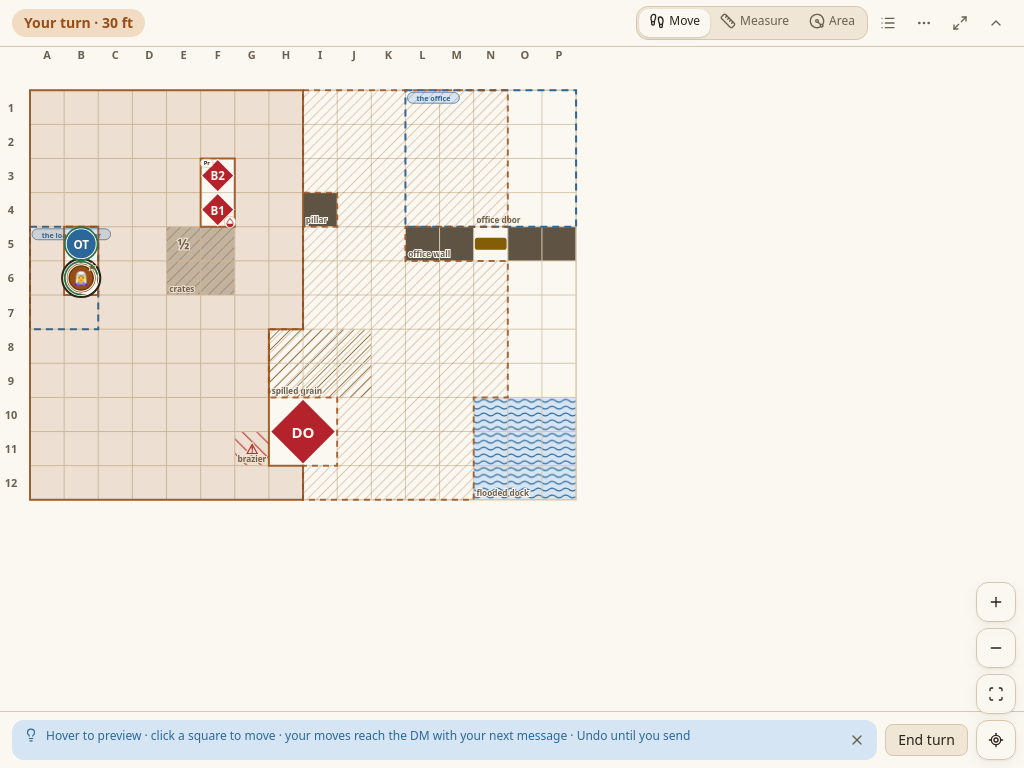
Scenario: area templates (D50, D64) › nudges a centre with the buttons and the arrow keys
The image size is (1024, 768).
Click the radio button labelled "Area": [832, 23] box [799,9,865,37]
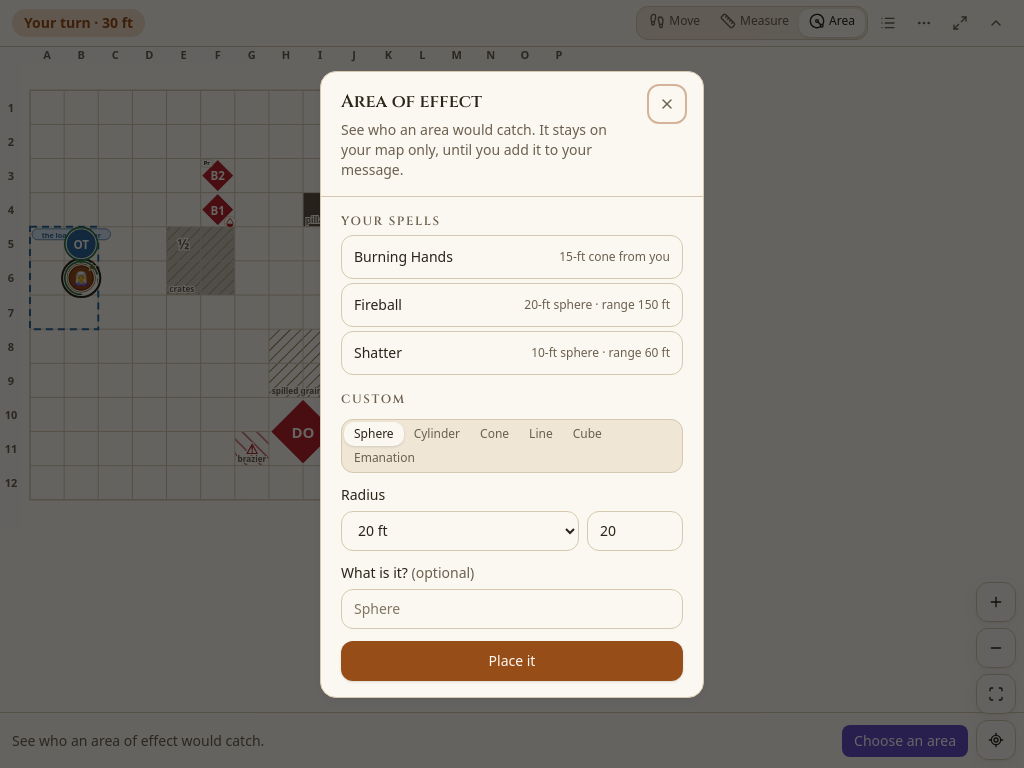
Click the button "Fireball 20-ft sphere · range 150 ft": [378, 304] box [341,282,683,326]
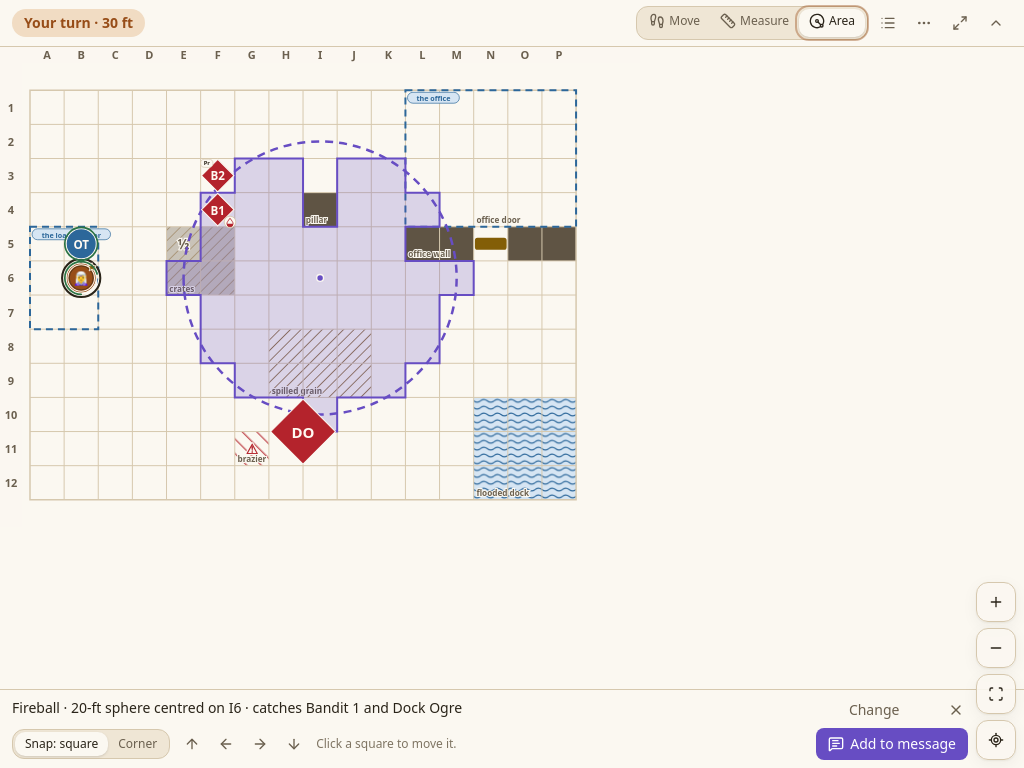
Press Enter in the element named "Battle map: Dockside warehouse, 16 by 12 squares"
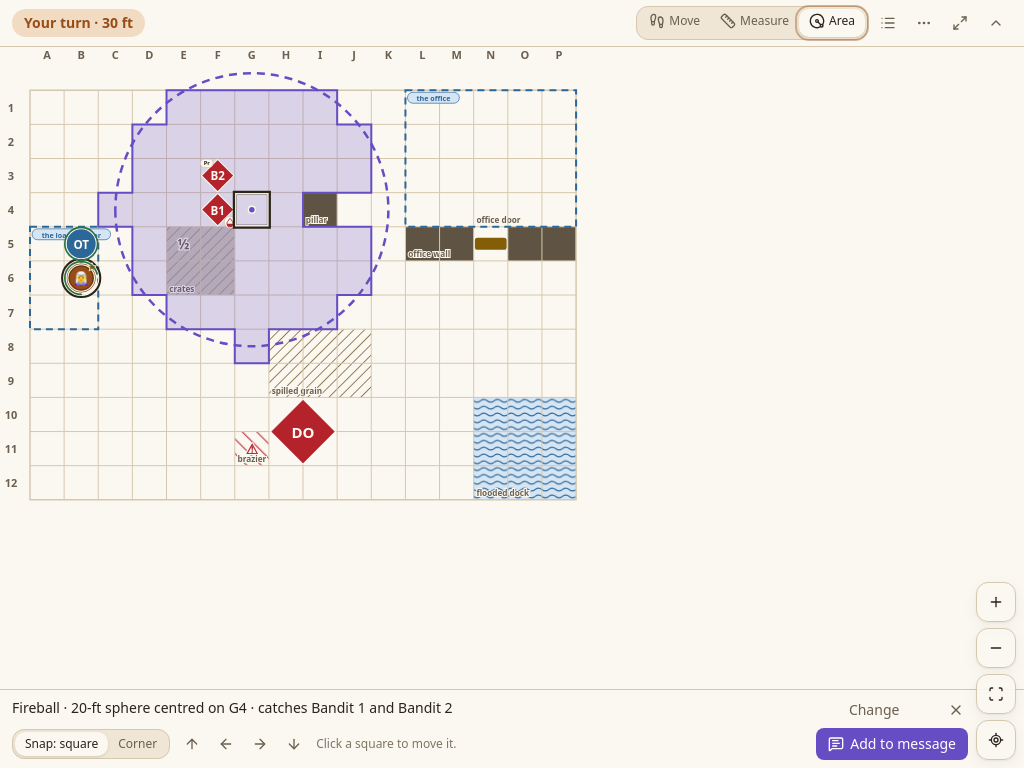
Click the button named "Nudge east": [260, 744] box [244,728,276,760]
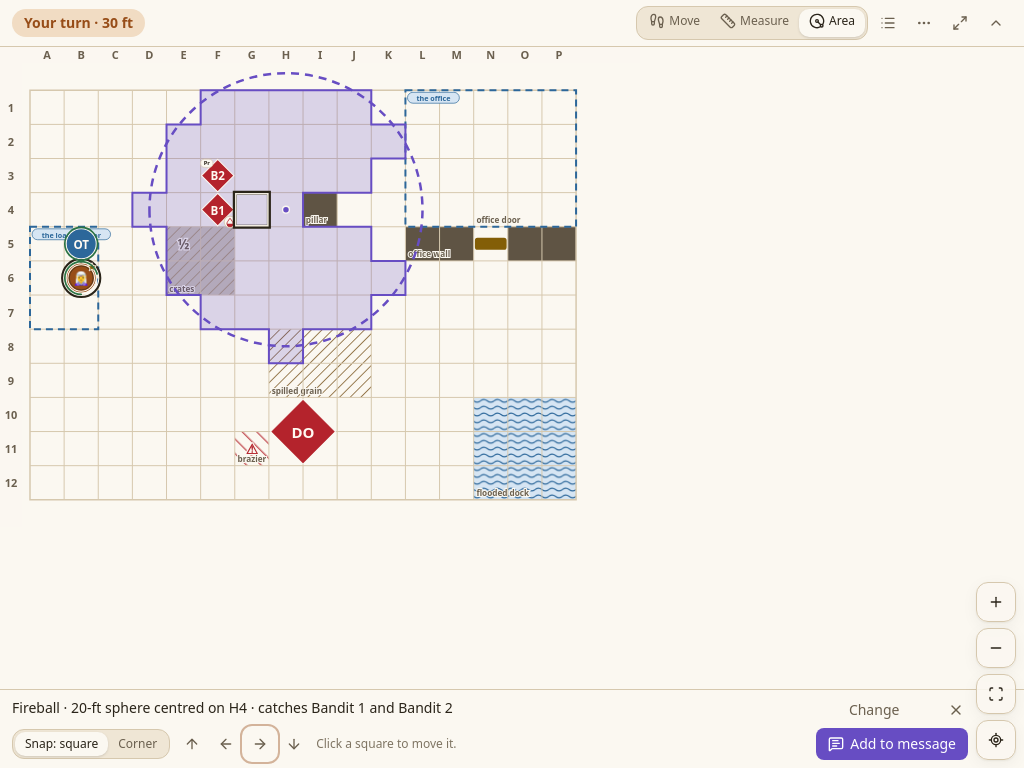
Now the text with test id "area-readout" shows "centred on H4", box [12,698,453,717]
Press ArrowDown in the element named "Battle map: Dockside warehouse, 16 by 12 squares"
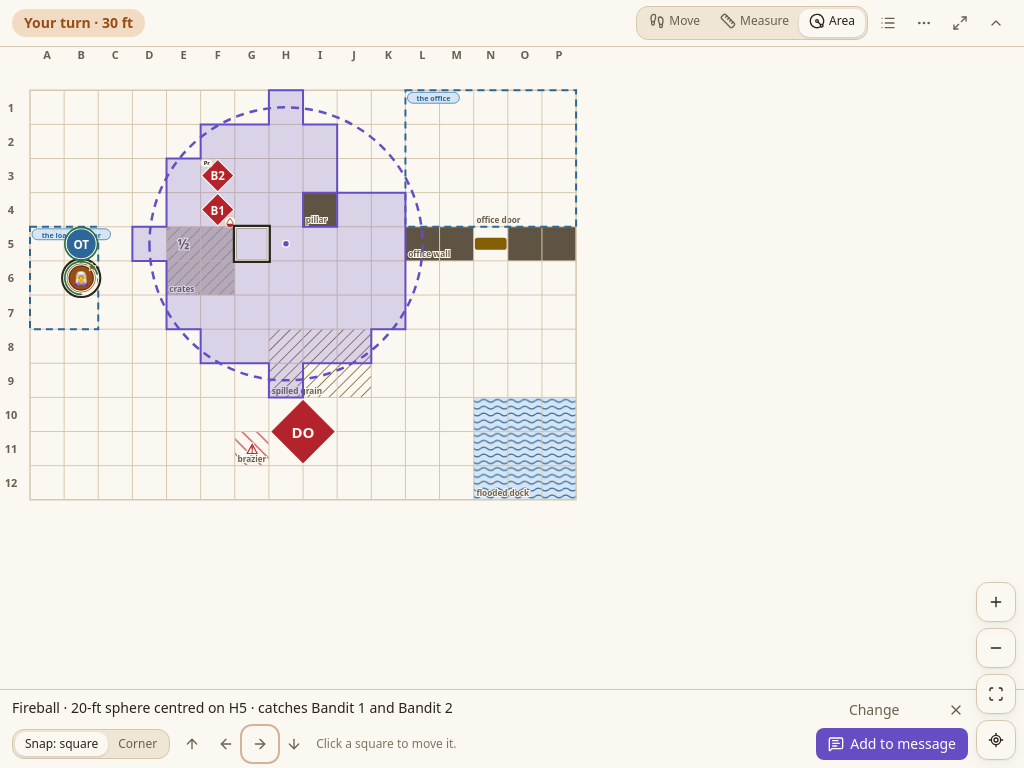
Now the text with test id "area-readout" shows "centred on H5", box [12,698,453,717]
